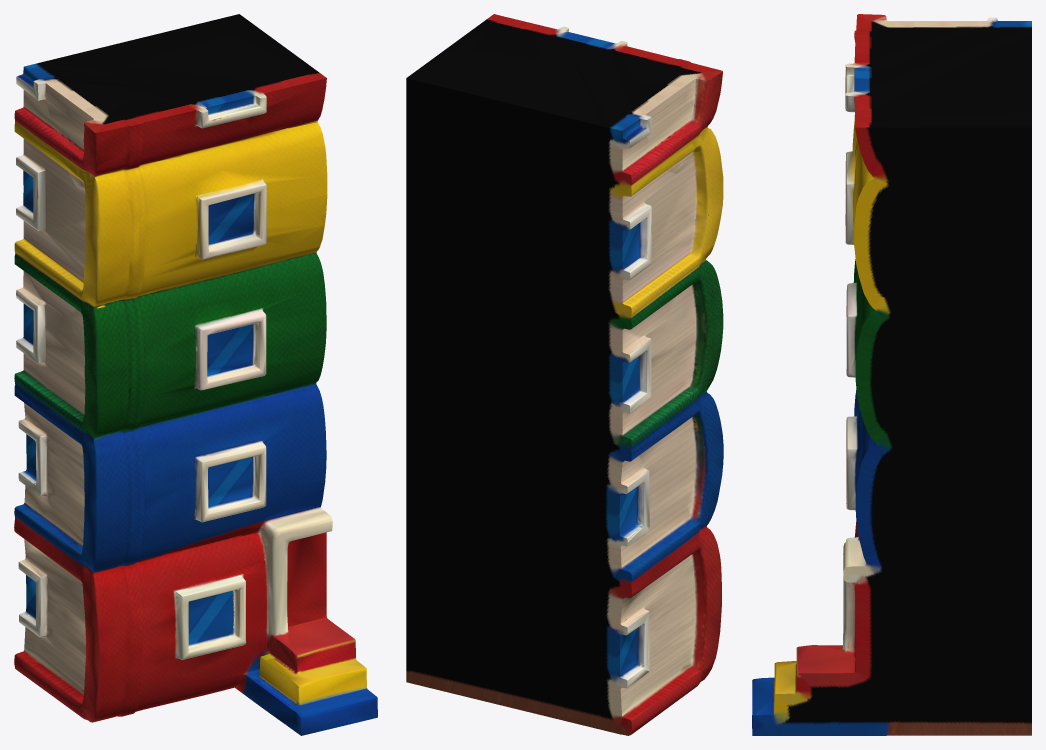
File: 1-ground-floor-front-left.fbx
3 views of the same model, side by side, from view 1: azimuth 30°, elevation 25°; view 2: azimuth 150°, elevation 25°; view 3: azimuth 270°, elevation 25° (orthographic).
Parts seen in each view (by area): view 1: ground-floor-front-left; view 2: ground-floor-front-left; view 3: ground-floor-front-left.
Part boxes in pixels (x1,y1,x2,y2): ground-floor-front-left: (14,14,377,735); ground-floor-front-left: (406,14,723,735); ground-floor-front-left: (752,14,1031,735).
Size of the model in its own units: 4385 by 10960 by 4565.
1 material, 1 textured.
